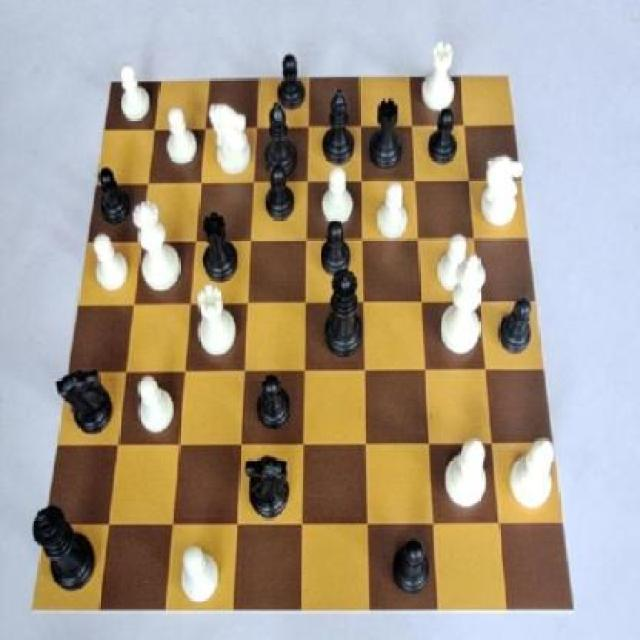bishop: (260, 97, 302, 180), (320, 83, 359, 169)
black-bishop: (25, 496, 100, 596)
black-king: (47, 360, 121, 442), (239, 450, 303, 526)
black-knight: (88, 148, 137, 228), (496, 283, 540, 368), (389, 524, 433, 606), (421, 97, 464, 173), (250, 366, 296, 436), (257, 157, 301, 226), (270, 46, 312, 116), (316, 212, 358, 282)
black-pawn: (315, 257, 370, 365)
black-queen: (196, 205, 247, 288), (368, 90, 410, 172)
black-rook: (500, 423, 564, 524), (441, 425, 494, 522)
white-bishop: (438, 242, 492, 358)
white-king: (200, 97, 254, 181), (477, 150, 526, 236)
white-knight: (173, 535, 224, 611), (88, 228, 134, 302), (111, 54, 155, 131), (131, 372, 180, 441), (432, 218, 476, 294), (374, 176, 417, 246), (160, 100, 201, 171), (316, 163, 362, 225)
white-pawn: (129, 195, 187, 298)
white-queen: (417, 29, 463, 114), (191, 285, 243, 360)
